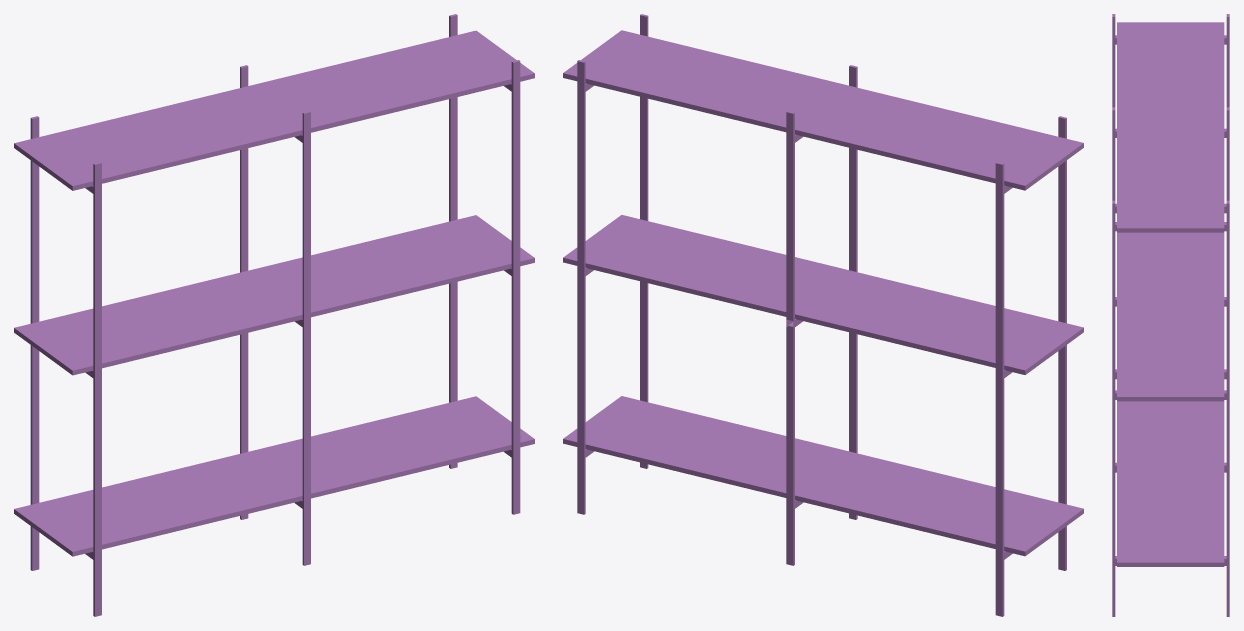
The model's file is estanteria.fbx.
3 views of the same model, side by side, from view 1: azimuth 30°, elevation 25°; view 2: azimuth 150°, elevation 25°; view 3: azimuth 270°, elevation 25° (orthographic). The views are drawn at different scales.
Visible parts, largest first — view 1: Object187; view 2: Object187; view 3: Object187.
Boxes of the visible parts, bbox=[...] form: Object187: bbox=[14, 14, 534, 616]; Object187: bbox=[563, 14, 1083, 616]; Object187: bbox=[1112, 14, 1229, 616].
Bounding box in the file's own units: 4.63 × 4.33 × 1.12.
